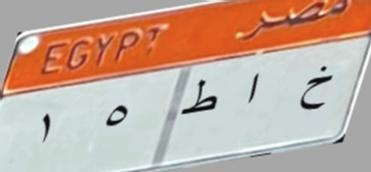1: (35, 104, 58, 148)
5: (96, 100, 140, 135)
Taa: (180, 73, 222, 122)
alif: (239, 66, 267, 112)
khaa: (292, 62, 334, 123)
